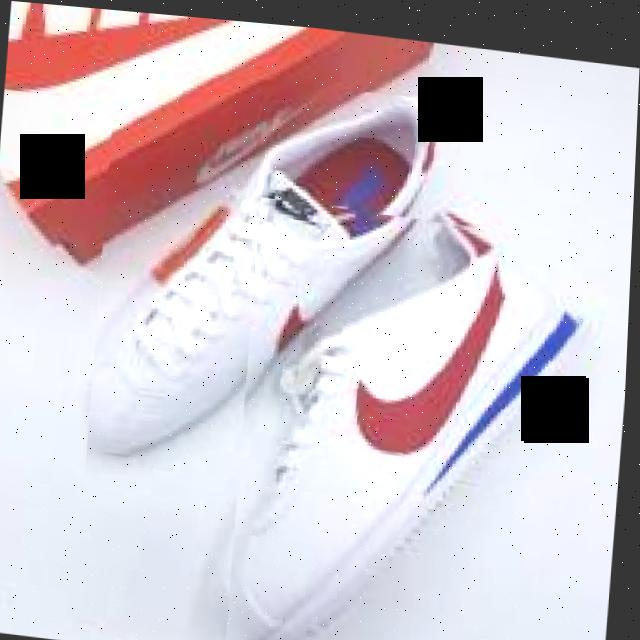shoe: (77, 56, 607, 640), (230, 191, 591, 640)
